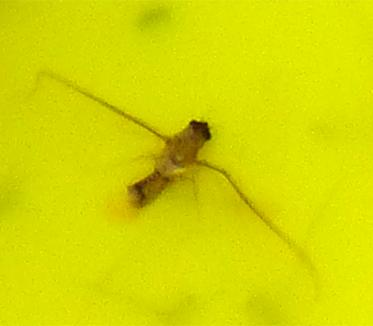Ephemeroptera: (100, 100, 273, 226)
